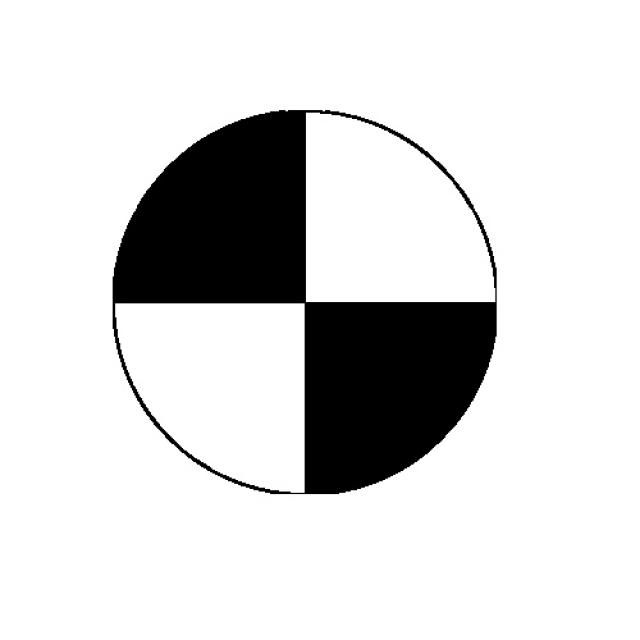Marcadores: (113, 111, 498, 496)
